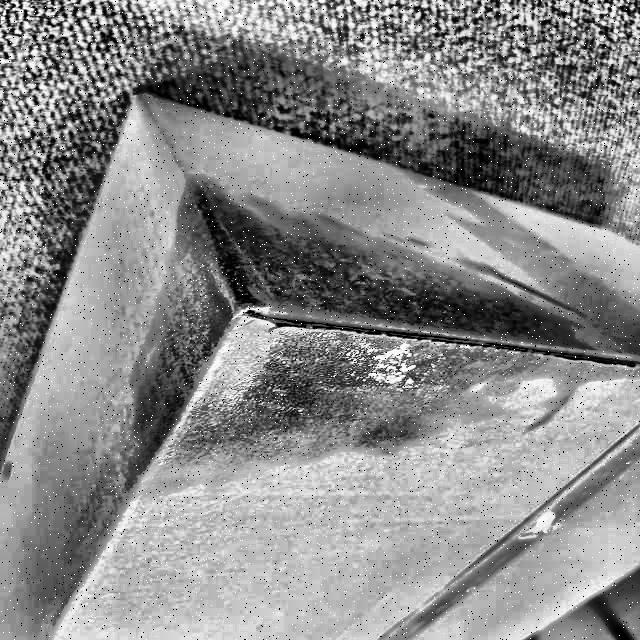box: (0, 98, 639, 640)
wet: (116, 188, 606, 494)
